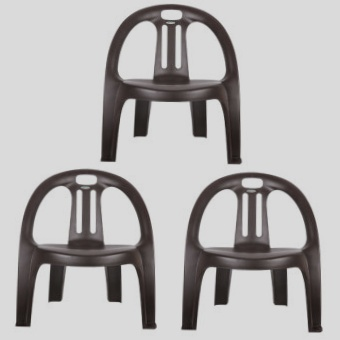plastic: (0, 160, 161, 338), (90, 1, 249, 165), (179, 173, 324, 332)
